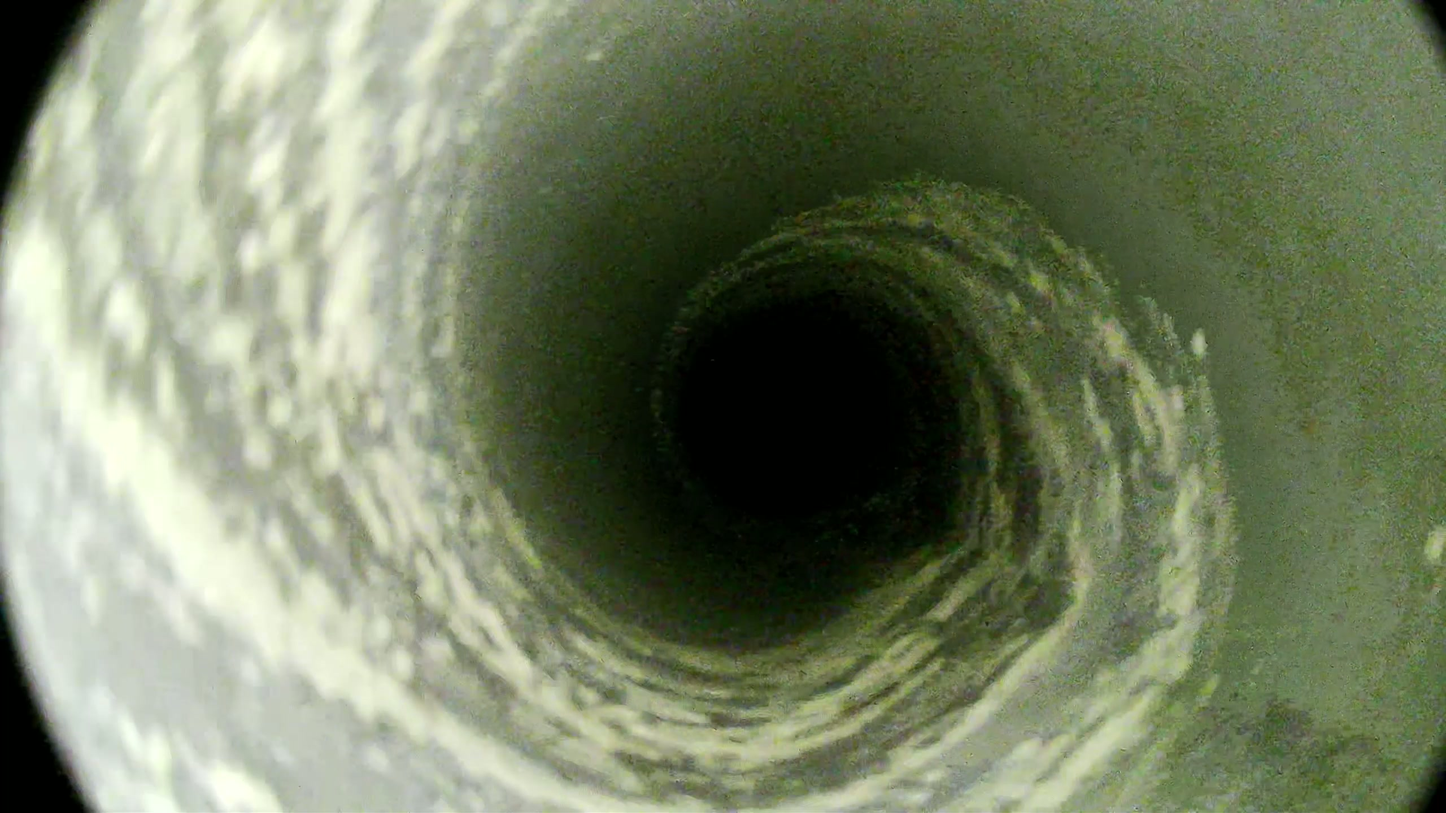hole: (682, 311, 891, 516)
